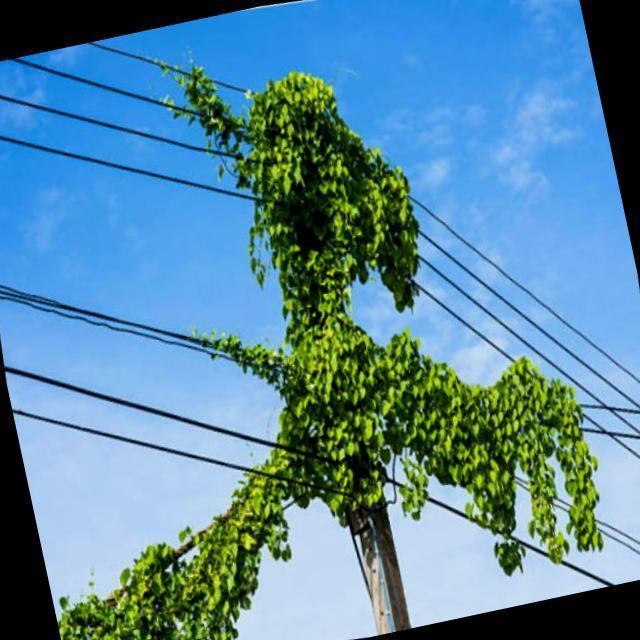critical vegetation: (180, 22, 472, 598)
